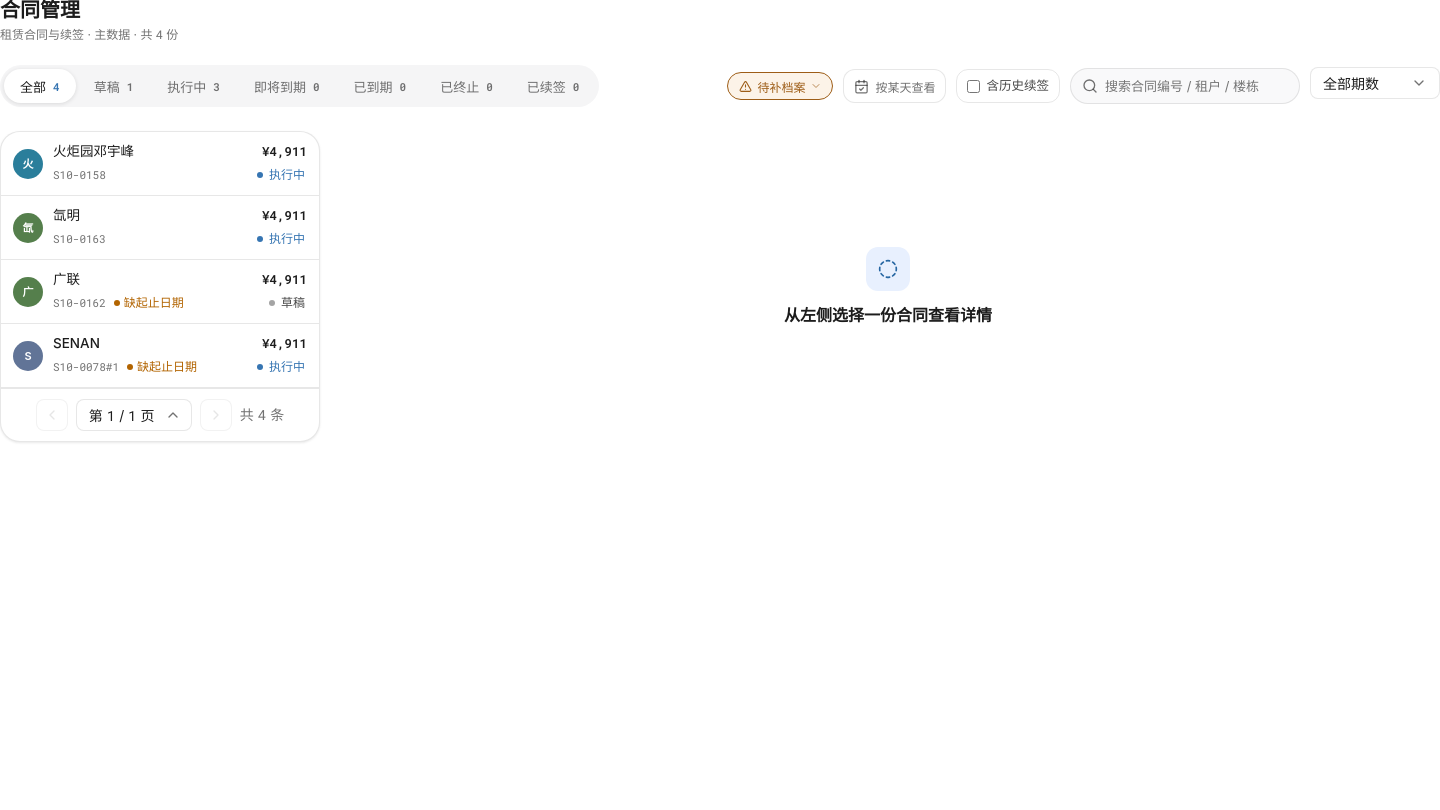
Test: 合同管理 · 待补档案入口的三处连带(打开含历史 / 翻页复位 / 切走收起) › ❗弹层开着切走页签再切回:弹层已收起
What coordinates should you click on to do the following:
click the button with class "fac"
I would click on:
 (780, 86)
Its box is [728, 72, 834, 100].
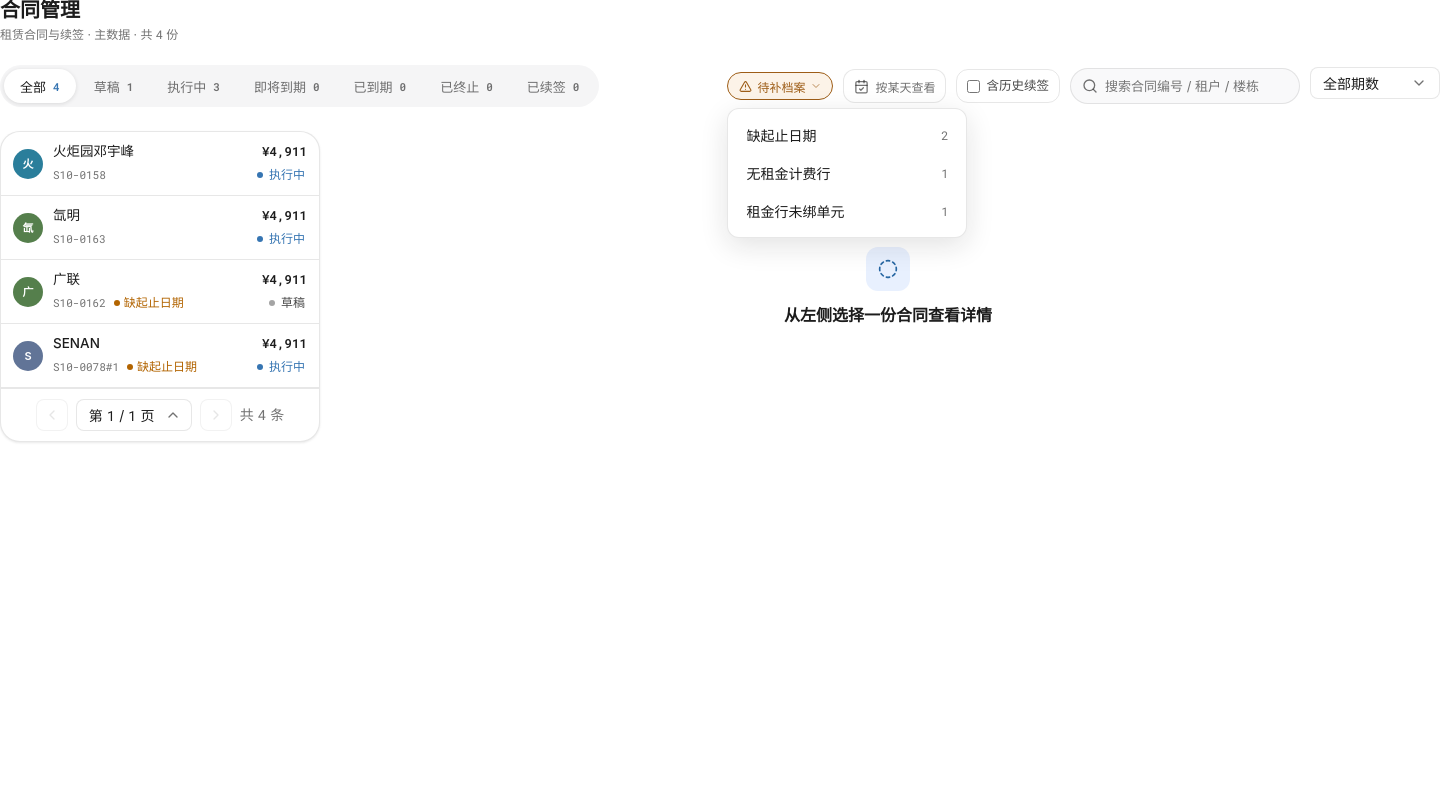
Result: the element showing "缺起止日期 2 无租金计费行 1 租金行未绑单元 1" is shown at [736, 117, 958, 229]
